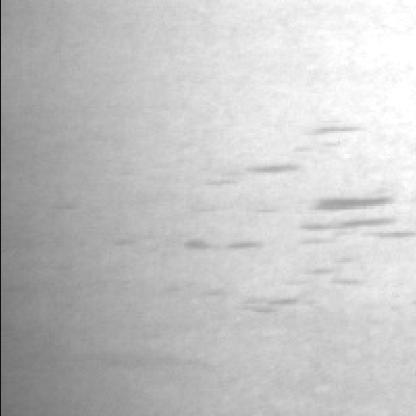inclusion: (283, 190, 410, 254), (231, 116, 358, 178), (177, 228, 266, 264)
